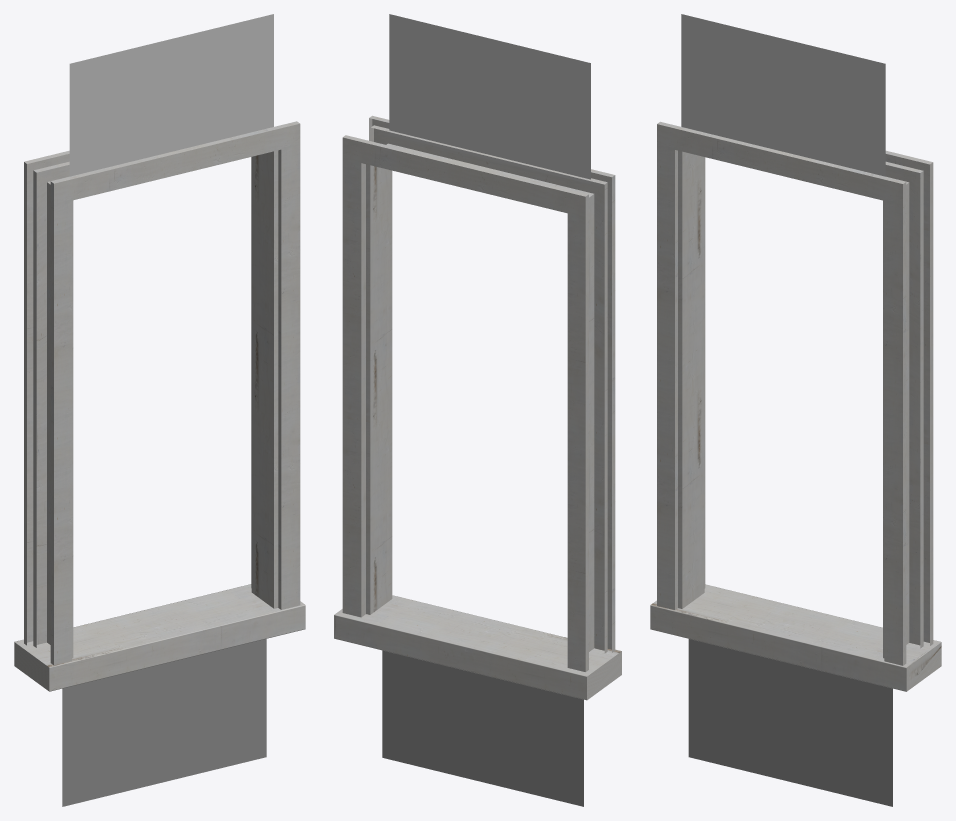
The model's file is Wall_Door_Single_A_1x.FBX.
3 views of the same model, side by side, from view 1: azimuth 30°, elevation 25°; view 2: azimuth 150°, elevation 25°; view 3: azimuth 330°, elevation 25° (orthographic).
Parts seen in each view (by area): view 1: Wall_Door_Single_A_1x; view 2: Wall_Door_Single_A_1x; view 3: Wall_Door_Single_A_1x.
Boxes of the visible parts, bbox=[...] form: Wall_Door_Single_A_1x: bbox=[14, 14, 305, 806]; Wall_Door_Single_A_1x: bbox=[334, 14, 621, 806]; Wall_Door_Single_A_1x: bbox=[650, 14, 941, 806].
Bounding box in the file's own units: 125 × 350 × 29.83.
